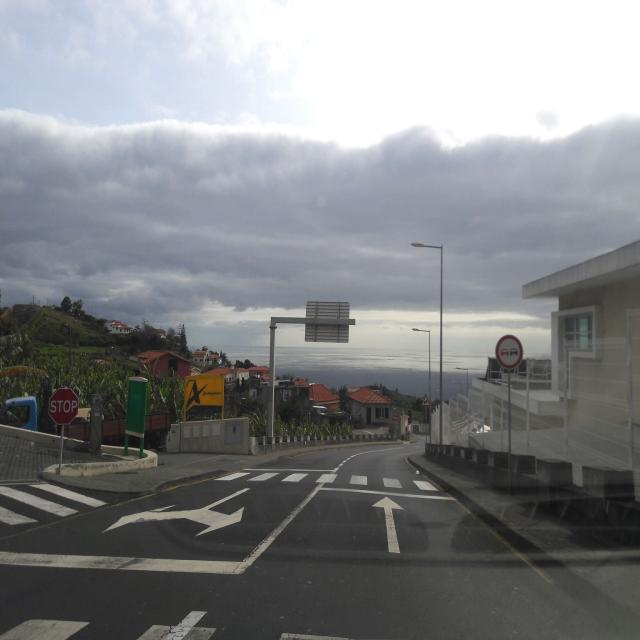car: (0, 395, 39, 433)
